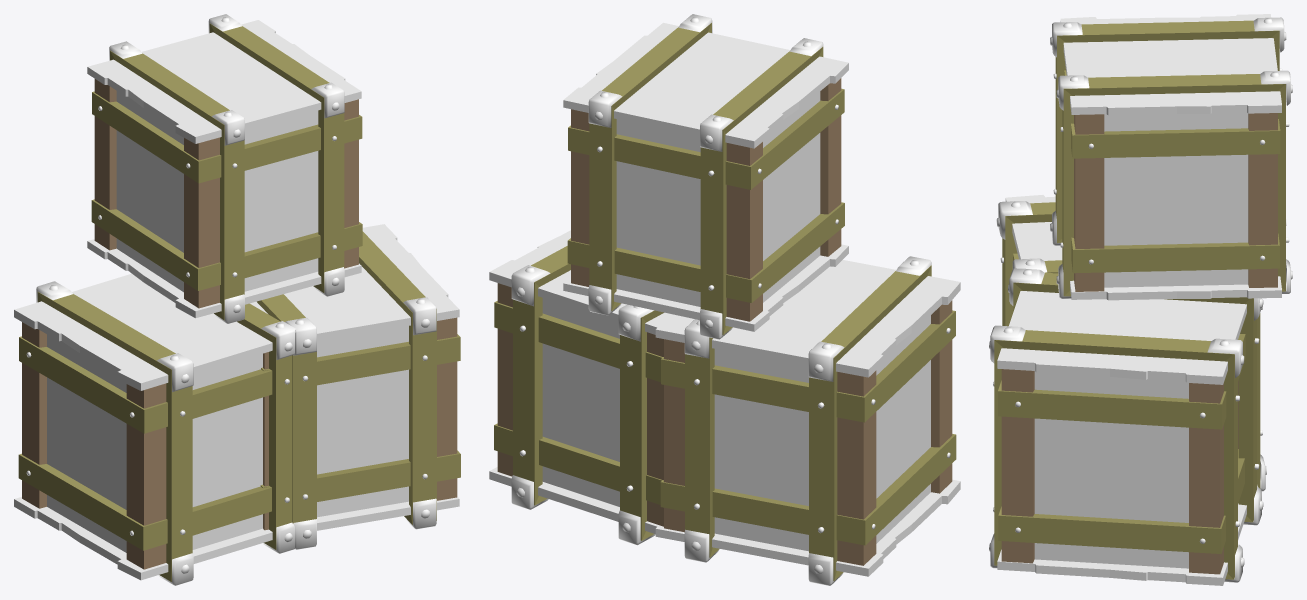
The model's file is fishing_crates.glb.
3 renders of one model, left to right at view 1: azimuth 30°, elevation 25°; view 2: azimuth 150°, elevation 25°; view 3: azimuth 270°, elevation 25°, orthographic. The views are drawn at different scales.
Visible parts, largest first — view 1: Cube017 (×3), Cube017_1 (×3); view 2: Cube017 (×3), Cube017_1 (×3); view 3: Cube017 (×3), Cube017_1 (×3).
Part boxes in pixels (left/top/right/bottom): Cube017 (×3): left=14, top=20, right=460, bottom=581; Cube017_1 (×3): left=26, top=14, right=436, bottom=585; Cube017 (×3): left=489, top=22, right=960, bottom=580; Cube017_1 (×3): left=511, top=14, right=950, bottom=585; Cube017 (×3): left=994, top=14, right=1285, bottom=585; Cube017_1 (×3): left=989, top=17, right=1292, bottom=582.
Size of the model in its own units: 1.58 by 1.79 by 1.07.
